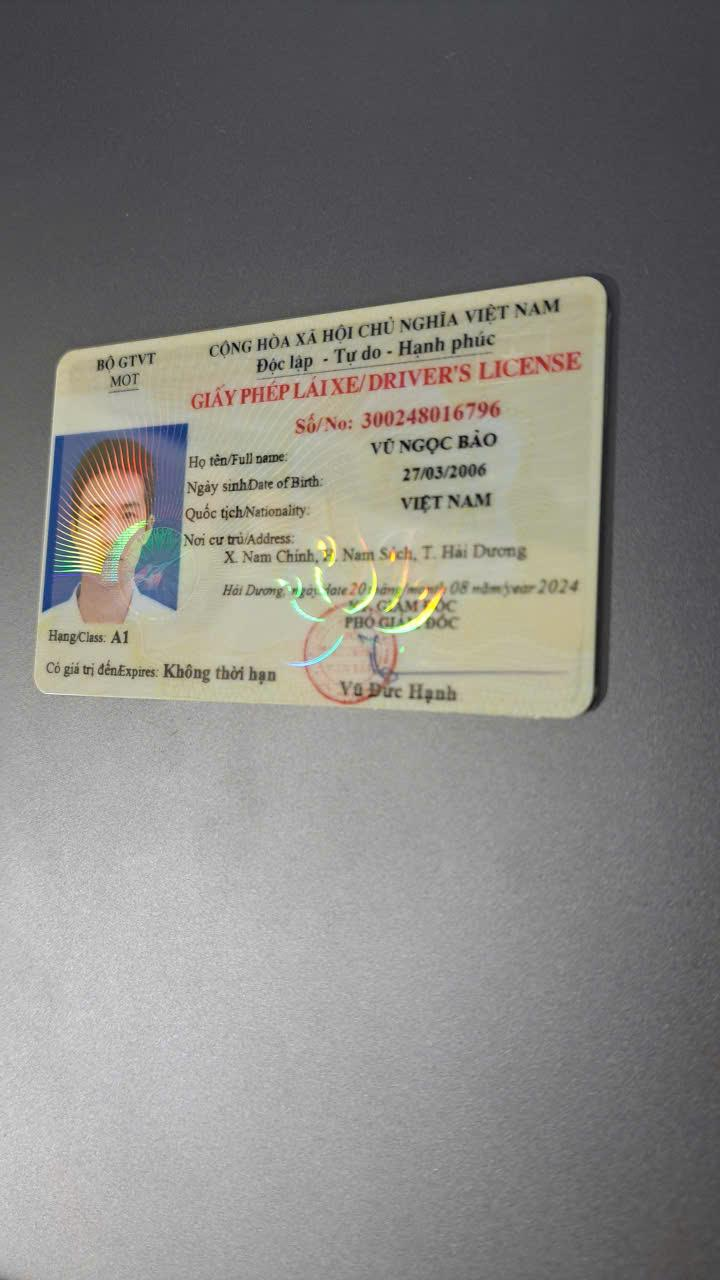gplx: (22, 267, 612, 730)
